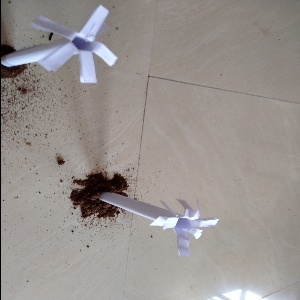weed: (1, 10, 123, 87), (95, 174, 215, 252)
